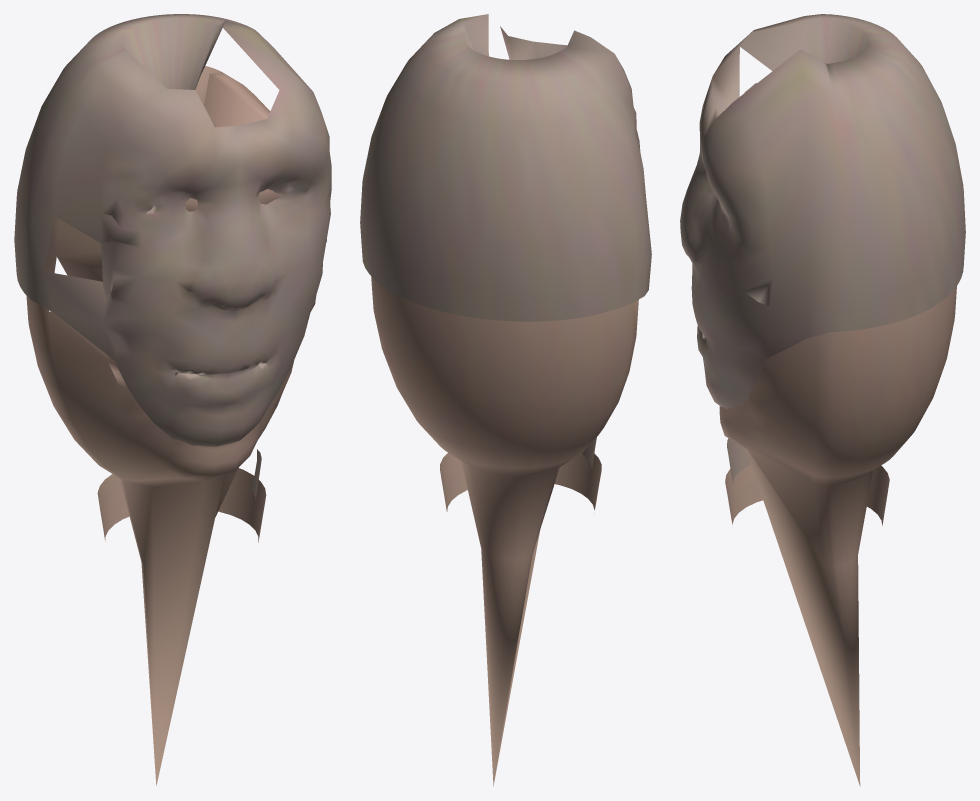
3 views of the same model, side by side, from view 1: azimuth 30°, elevation 25°; view 2: azimuth 150°, elevation 25°; view 3: azimuth 270°, elevation 25° (orthographic). The views are drawn at different scales.
Parts seen in each view (by area): view 1: world; view 2: world; view 3: world.
Boxes of the visible parts, <box> form: world: <box>14,14,331,785</box>; world: <box>360,14,651,786</box>; world: <box>680,14,965,786</box>.
Size of the model in its own units: 0.117 by 0.3047 by 0.1046.
